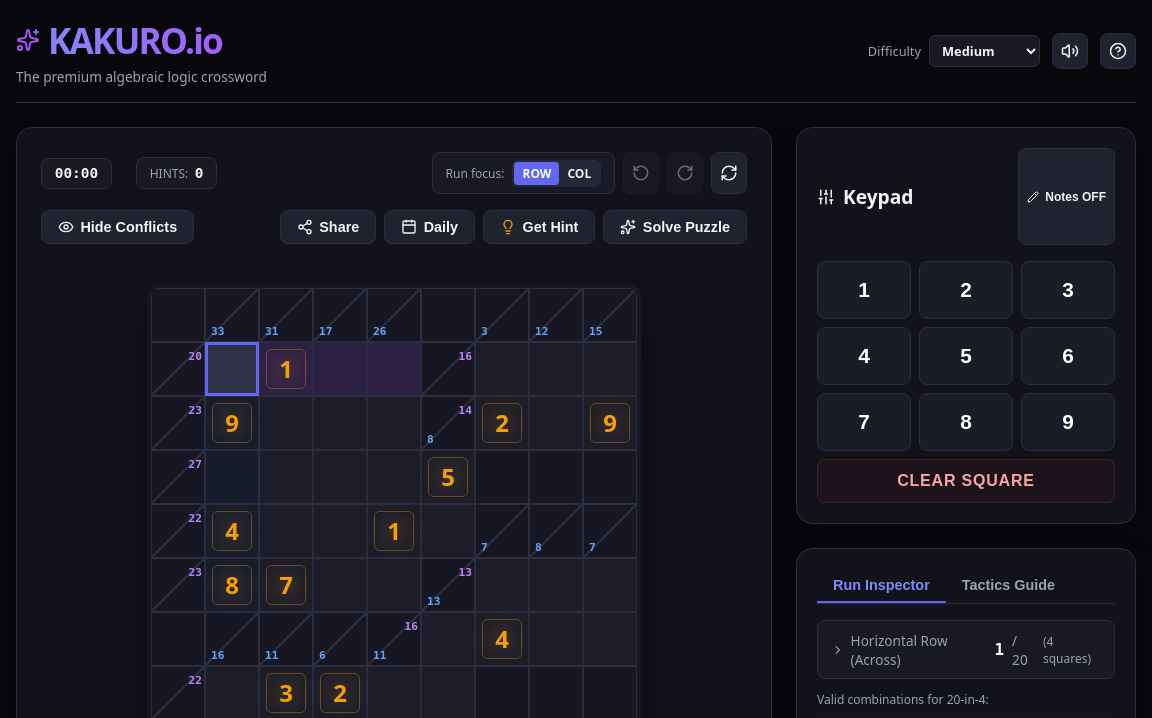
App integration › selects a cell on click and accepts a typed digit
Click the 1st cell with class "cell-white".
click(232, 369)  # box [205,342,259,396]
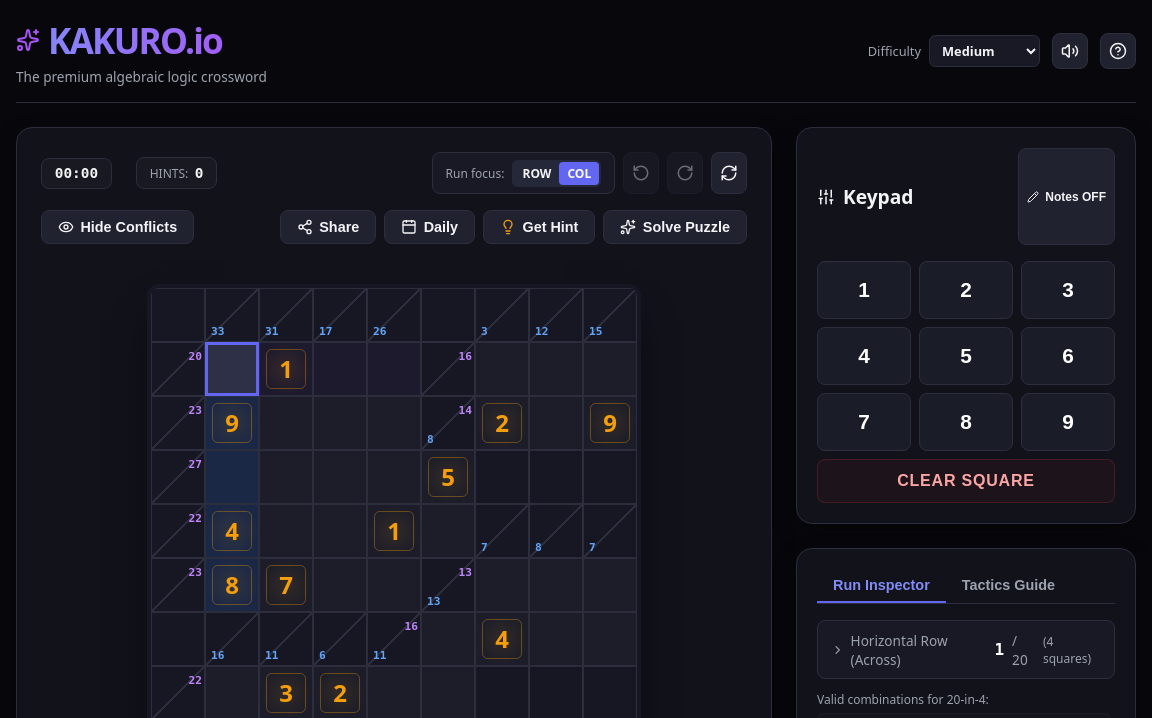
Type keys "5"
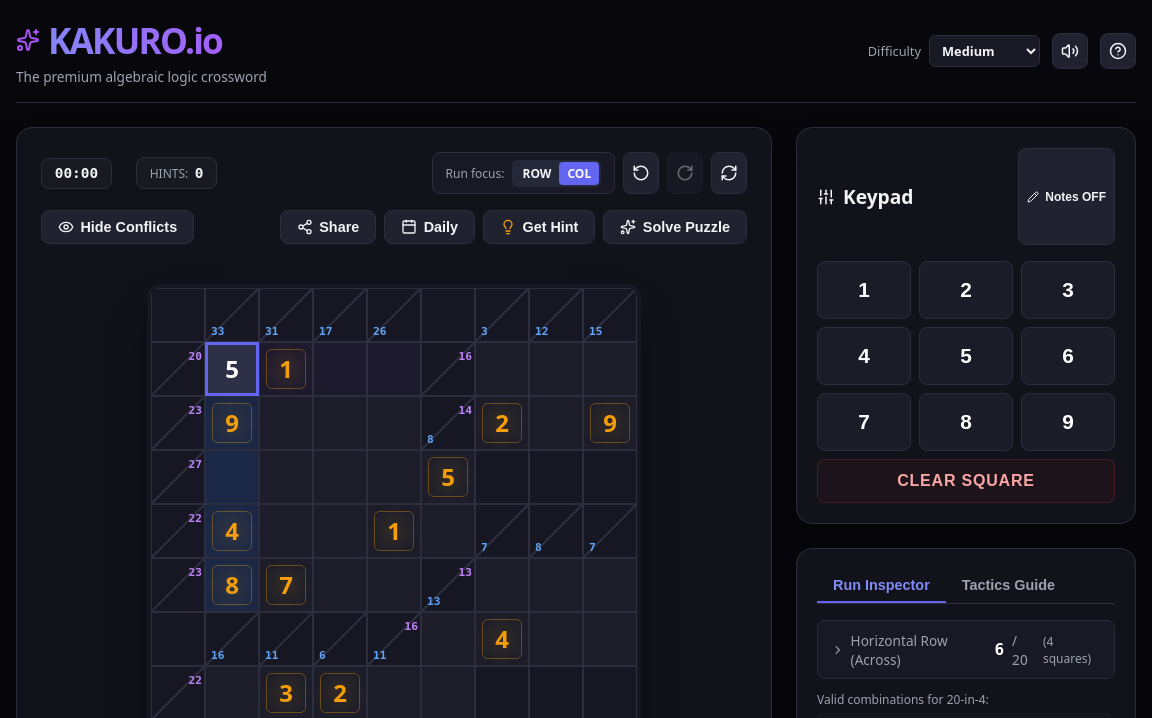
Expected: the 1st text with class "cell-value" reads "5", [225,352,239,385]
